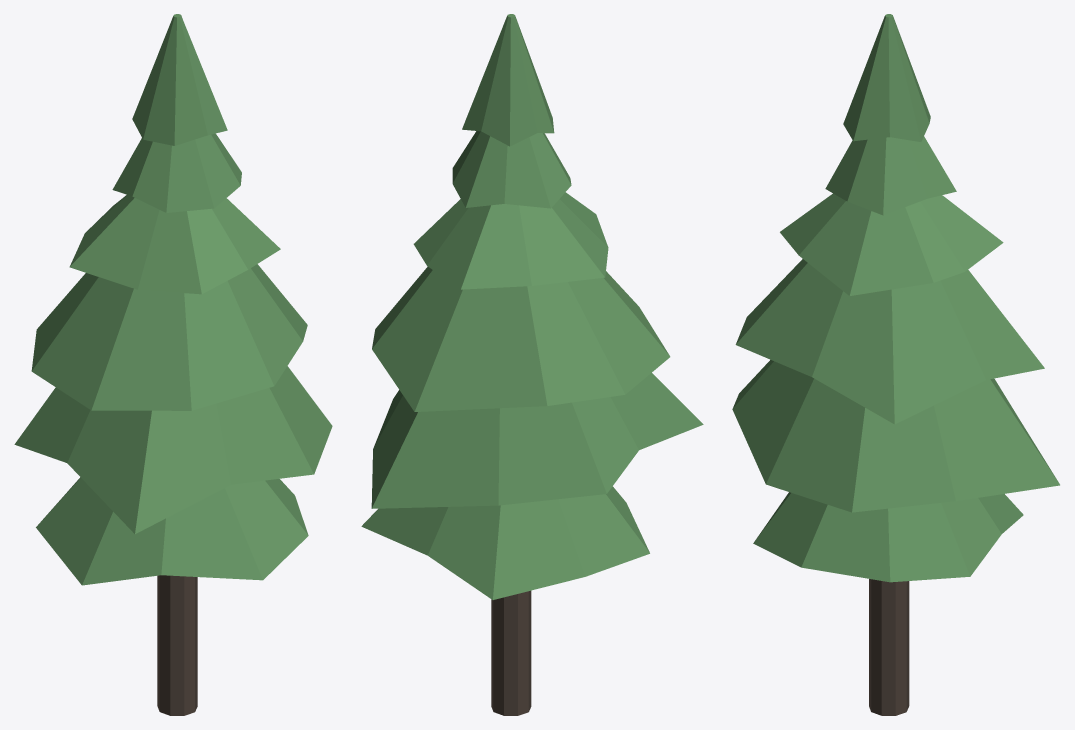
Rendered from stablo3.fbx.
3 views of the same model, side by side, from view 1: azimuth 30°, elevation 25°; view 2: azimuth 150°, elevation 25°; view 3: azimuth 270°, elevation 25° (orthographic).
Parts seen in each view (by area): view 1: Cylinder.024; view 2: Cylinder.024; view 3: Cylinder.024.
Boxes of the visible parts, x1,y1,x2,y2 form: Cylinder.024: (14, 14, 332, 715); Cylinder.024: (361, 14, 703, 715); Cylinder.024: (732, 14, 1059, 715).
Size of the model in its own units: 1019 by 2528 by 1087.
